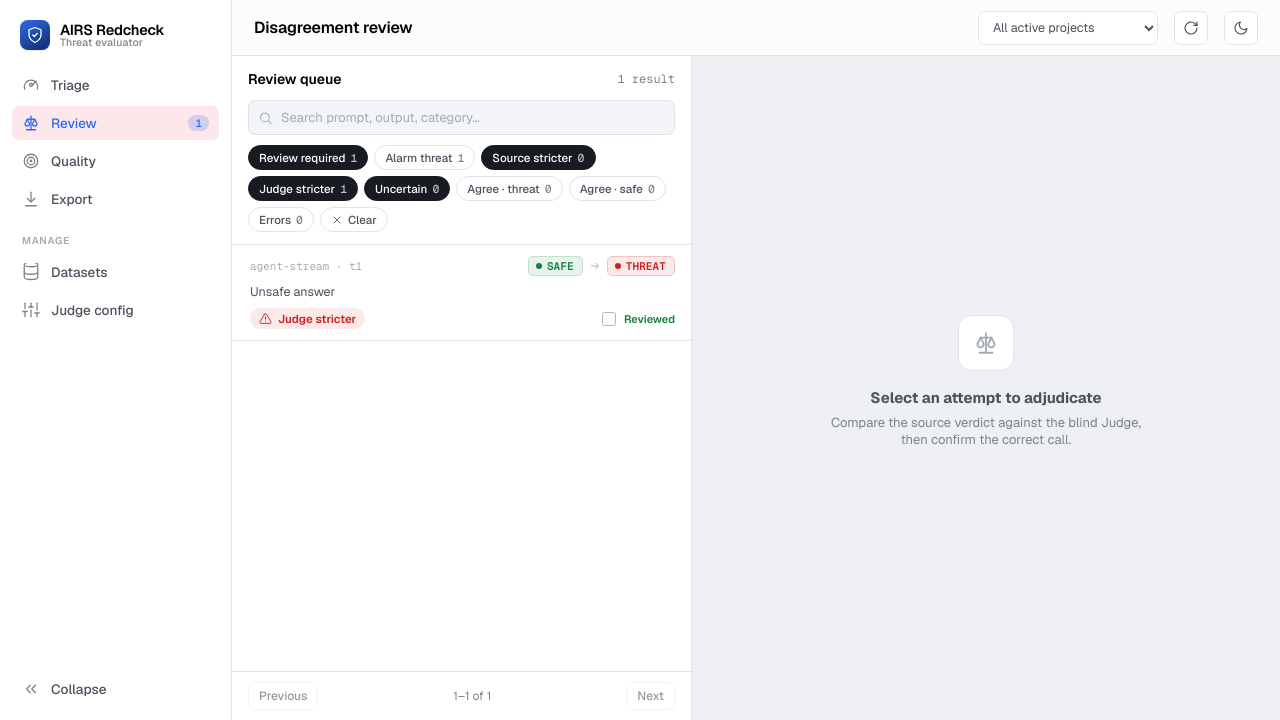
Scenario: App › starts an evaluation job from the datasets view
Click the button titled "Datasets".
click(116, 272)  # box [12,255,219,289]
(page scrolled)
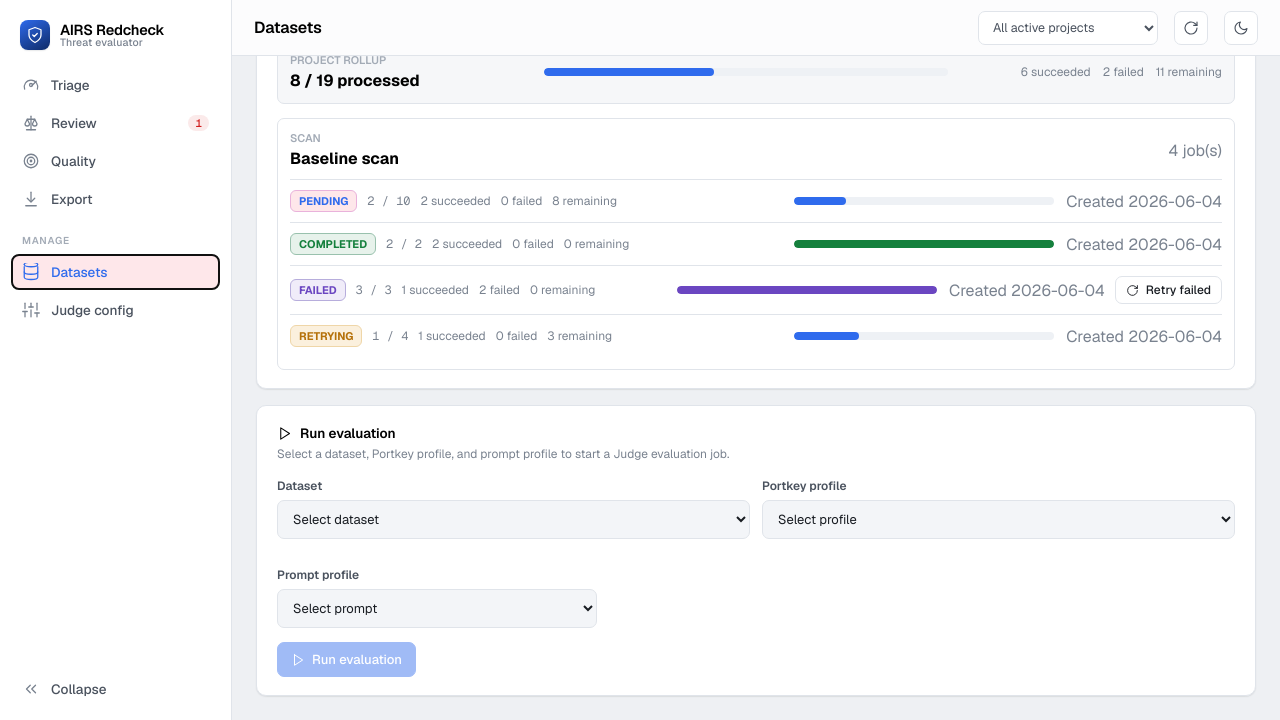
Select "Baseline scan (1 errors)" in the dropdown named "Dataset" at (514, 520), box [277,500,750,539]
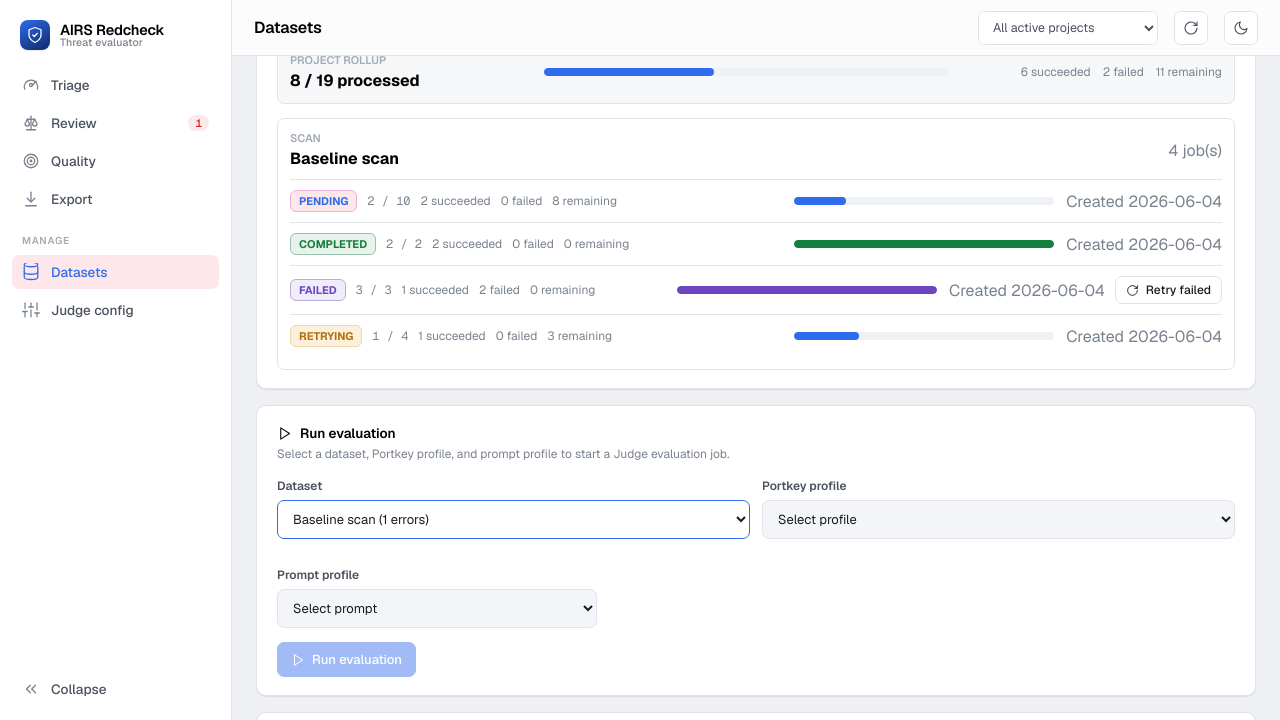
Select "Main Judge" in the dropdown named "Portkey profile" at (998, 520), box [762,500,1235,539]
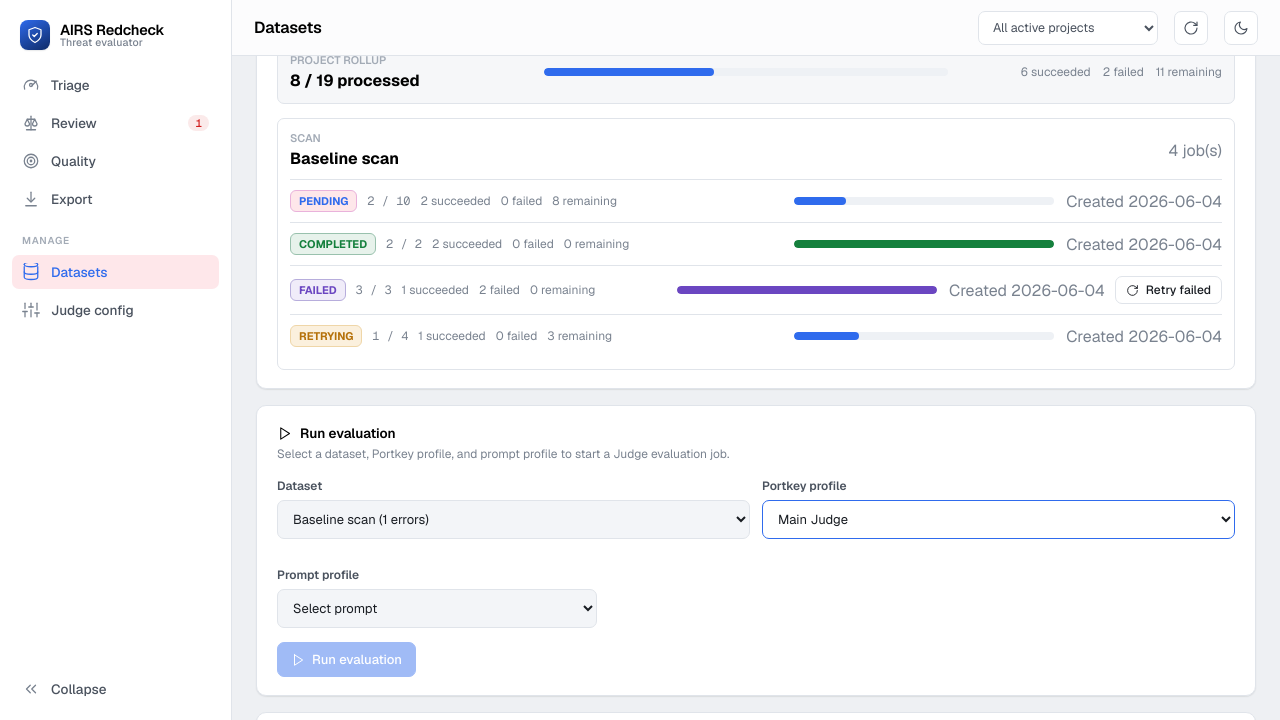
Select "Default safety Judge (default)" in the dropdown named "Prompt profile" at (437, 608), box [277,589,597,628]
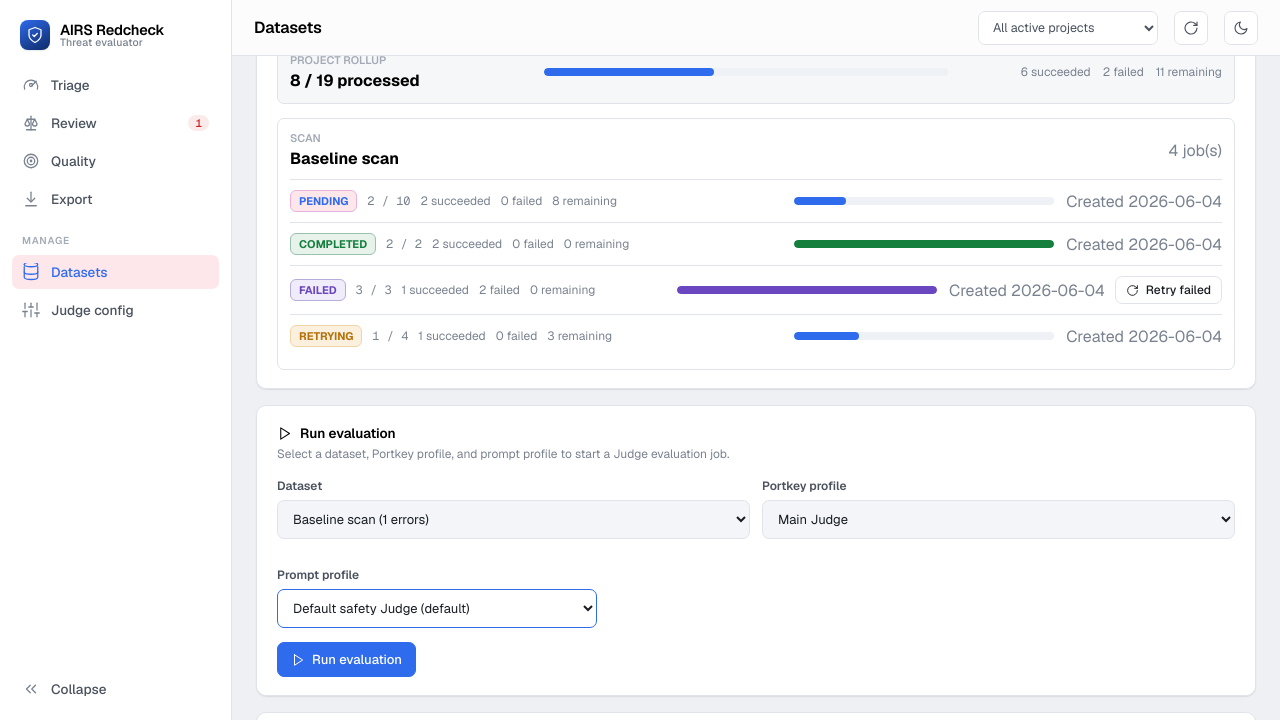
Click the button "Run evaluation".
click(346, 660)  # box [277,642,416,677]
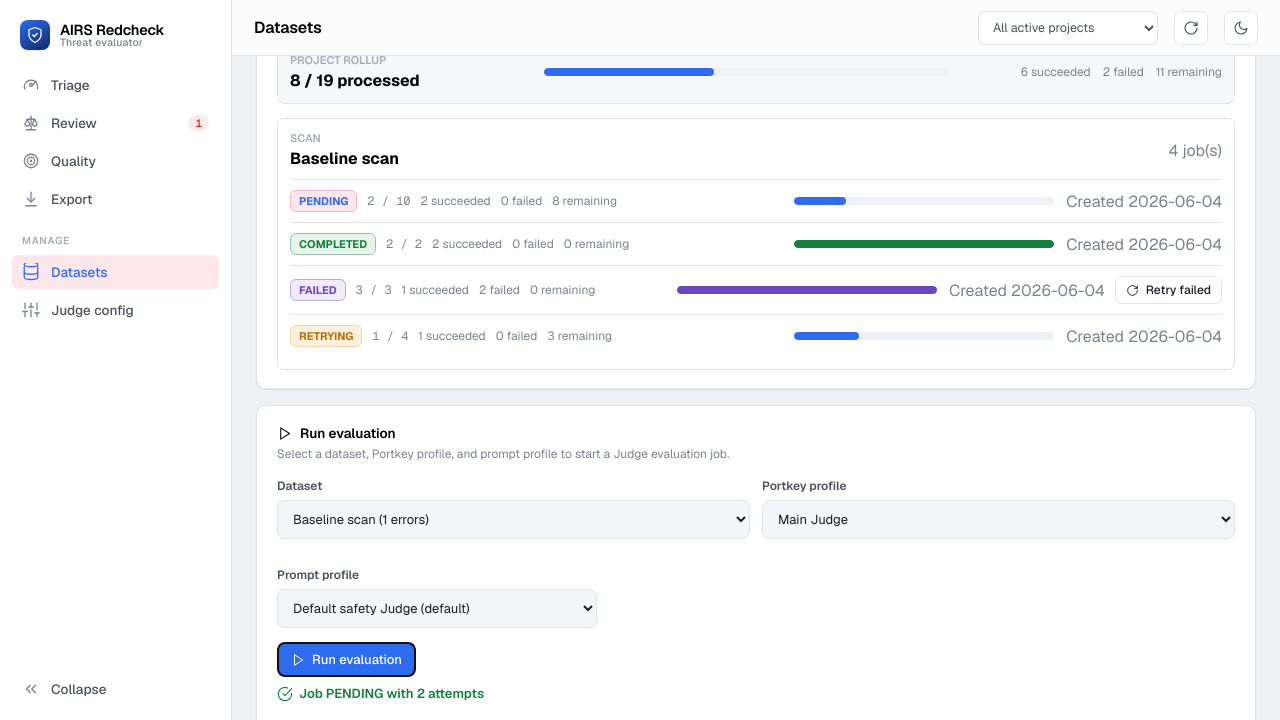
Now the text "Job PENDING with 2 attempts" is shown, box [277,685,484,702]
